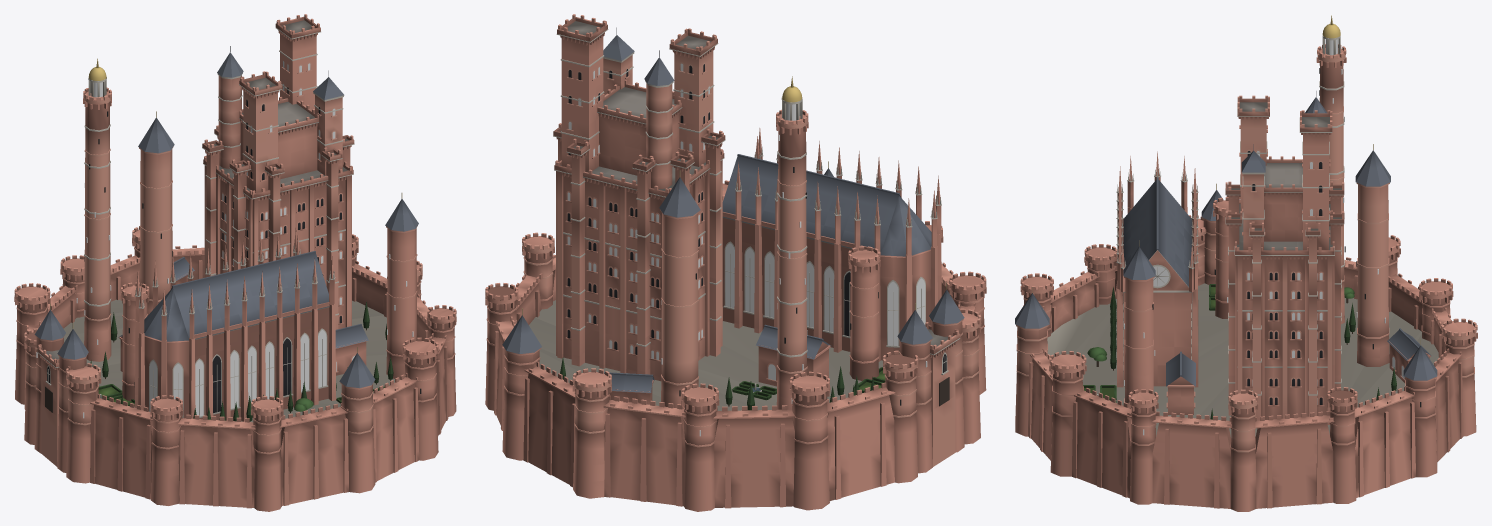
The model's file is redkeep.glb.
3 renders of one model, left to right at view 1: azimuth 30°, elevation 25°; view 2: azimuth 150°, elevation 25°; view 3: azimuth 270°, elevation 25°, orthographic. The views are drawn at different scales.
Parts seen in each view (by area): view 1: redkeep; view 2: redkeep; view 3: redkeep.
Boxes of the visible parts, x1,y1,x2,y2 form: redkeep: (14, 14, 456, 511); redkeep: (485, 14, 986, 511); redkeep: (1015, 15, 1477, 511).
Size of the model in its own units: 172 by 152 by 178.
